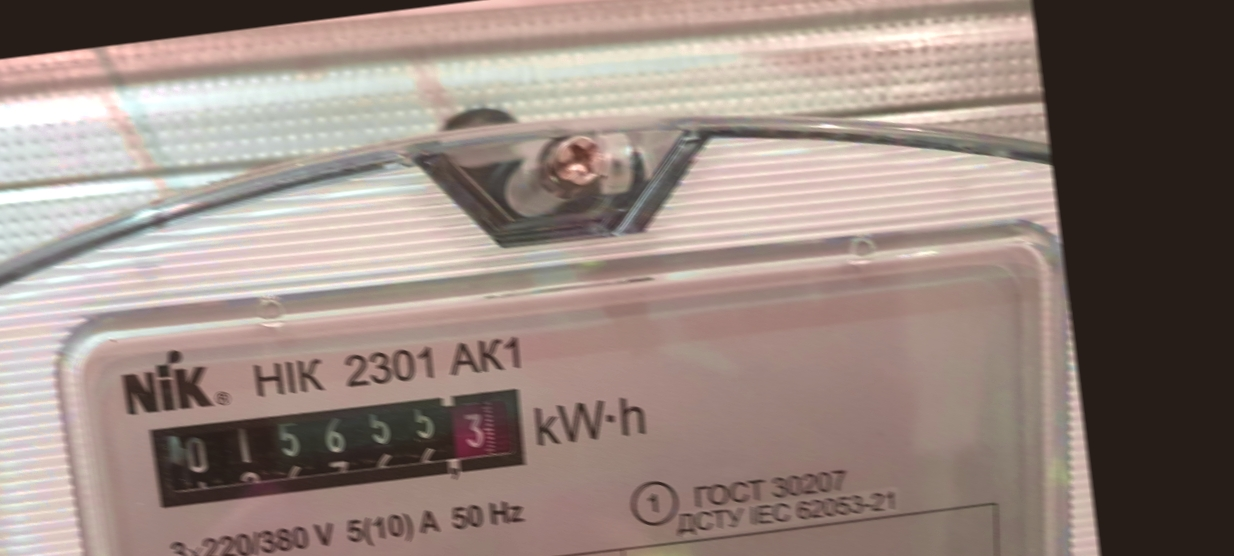0: (180, 432, 210, 476)
1: (232, 426, 255, 467)
3: (461, 411, 485, 449)
5: (274, 421, 302, 459), (366, 412, 393, 446), (413, 407, 435, 441)
6: (320, 417, 348, 455)
screen: (134, 368, 542, 526)
